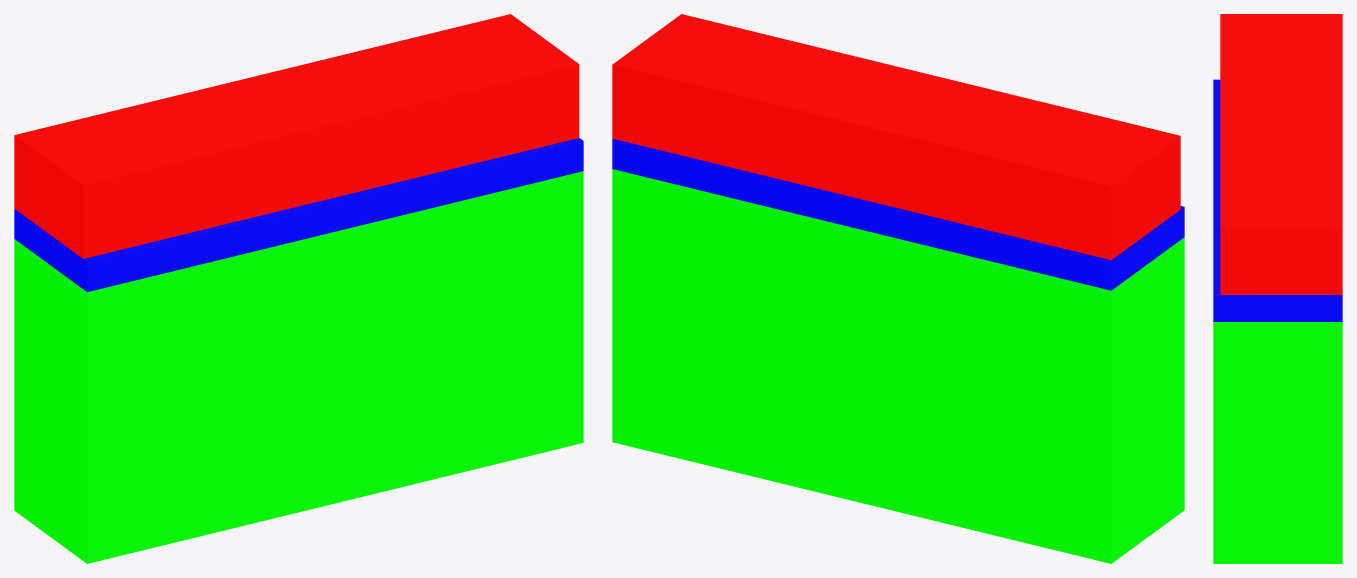
File: DroneWall_WallBase_001.FBX
3 renders of one model, left to right at view 1: azimuth 30°, elevation 25°; view 2: azimuth 150°, elevation 25°; view 3: azimuth 270°, elevation 25°, orthographic. The views are drawn at different scales.
Visible parts, largest first — view 1: WallBase; view 2: WallBase; view 3: WallBase.
Boxes of the visible parts, left/top/right/bottom form: WallBase: left=14, top=14, right=583, bottom=563; WallBase: left=612, top=14, right=1184, bottom=563; WallBase: left=1213, top=14, right=1342, bottom=563.
Size of the model in its own units: 500 by 127 by 362.
